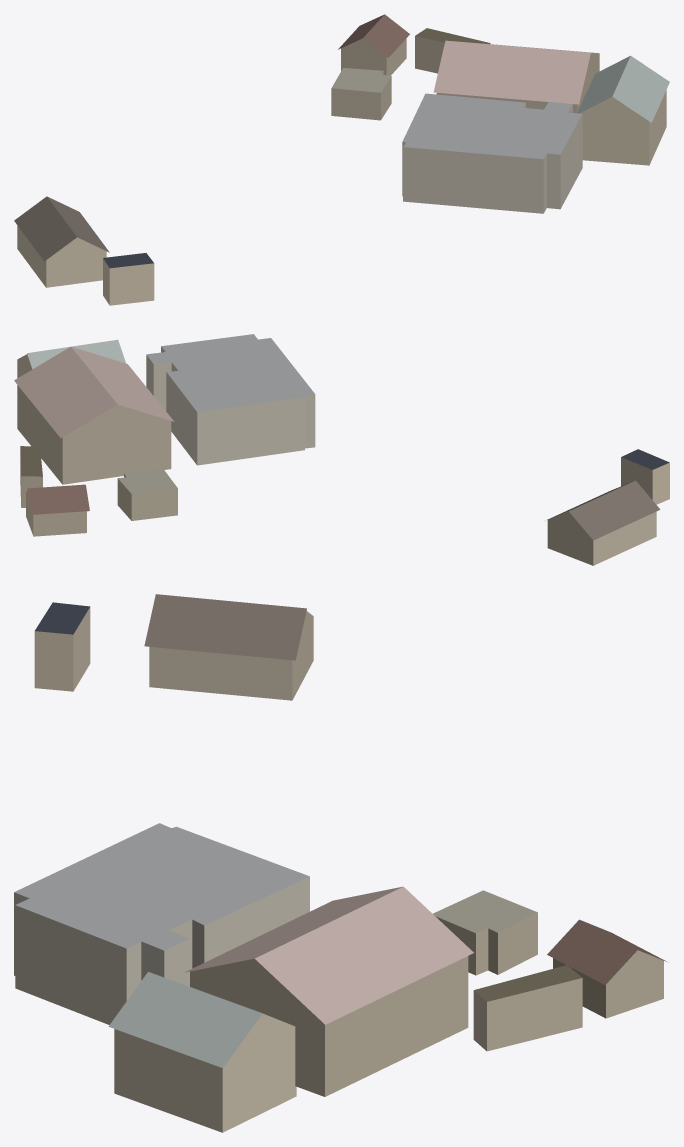
3 renders of one model, top to bottom at view 1: azimuth 30°, elevation 25°; view 2: azimuth 150°, elevation 25°; view 3: azimuth 270°, elevation 25°, orthographic. The views are drawn at different scales.
Parts seen in each view (by area): view 1: tuile; view 2: tuile; view 3: tuile.
Boxes of the visible parts, <box> form: tuile: <box>14,14,669,305</box>; tuile: <box>14,334,669,565</box>; tuile: <box>14,594,666,1132</box>.
Bounding box in the file's own units: 93.55 × 11.43 × 54.09.
